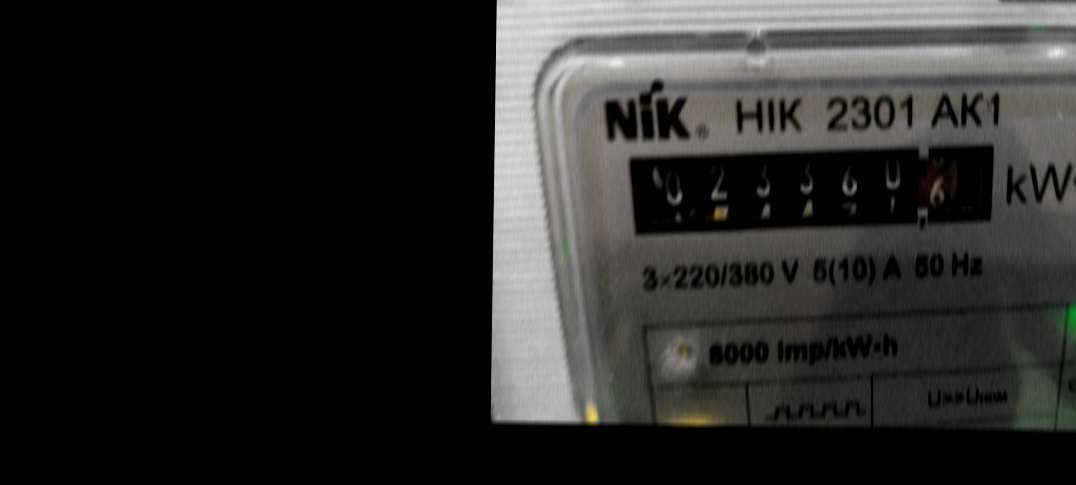0: (662, 164, 688, 207), (883, 153, 906, 190)
2: (706, 159, 733, 200)
3: (795, 156, 818, 195), (753, 158, 775, 198)
6: (837, 157, 864, 198), (929, 172, 951, 209)
screen: (608, 125, 1010, 249)
